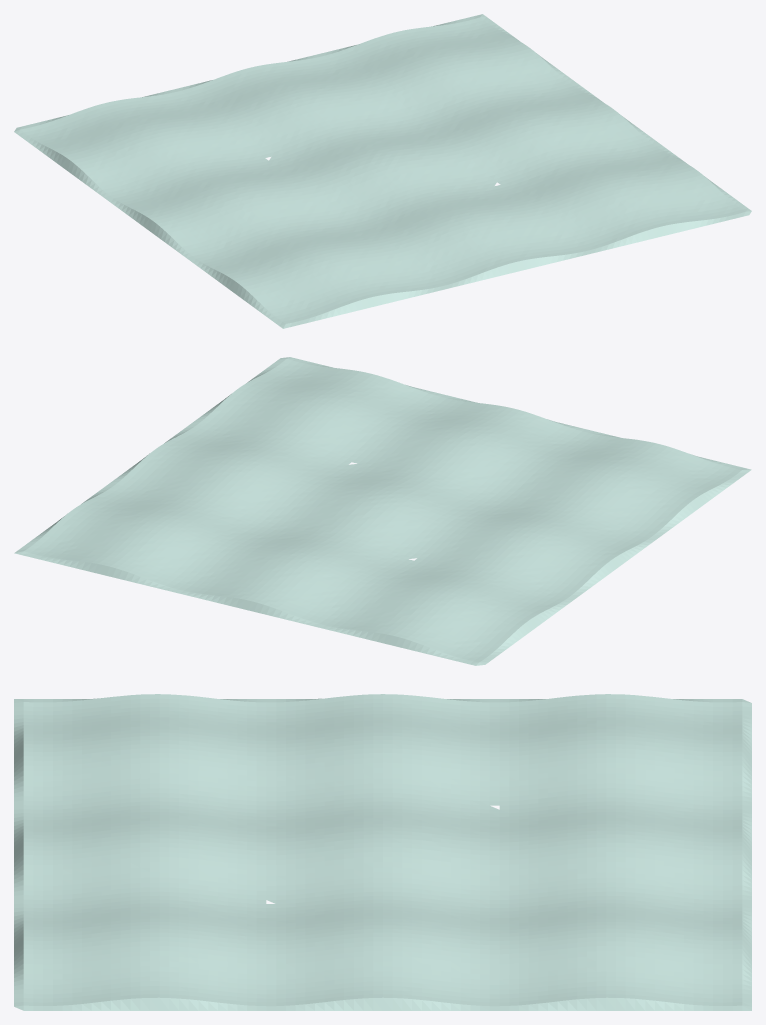
The model's file is mesh_waves_old.dae.
The picture shows the model from 3 angles, top to bottom: view 1: azimuth 30°, elevation 25°; view 2: azimuth 150°, elevation 25°; view 3: azimuth 270°, elevation 25°; orthographic projection. The views are drawn at different scales.
Parts seen in each view (by area): view 1: node_1; view 2: node_1; view 3: node_1.
Part boxes in pixels (x1=…): node_1: x1=14, y1=14, x2=751, y2=328; node_1: x1=14, y1=357, x2=751, y2=665; node_1: x1=14, y1=694, x2=751, y2=1010.
Size of the model in its own units: 3.99 by 3.99 by 0.0996.
